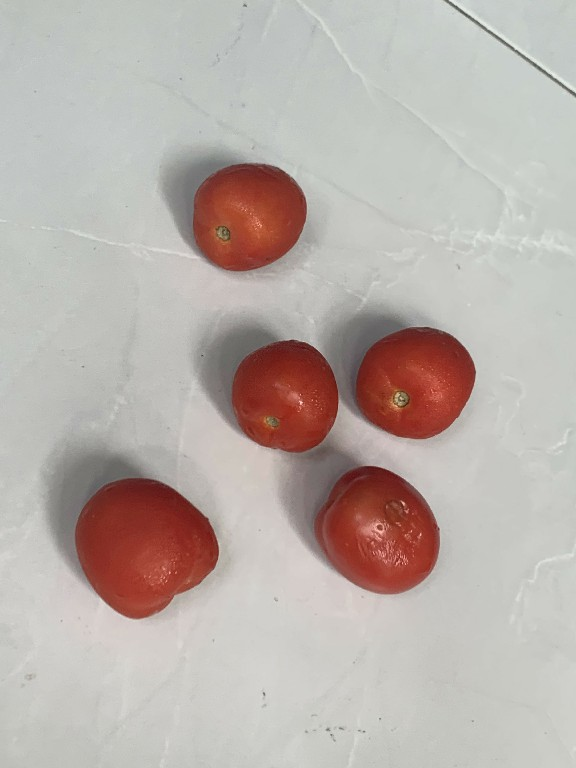NG: (311, 462, 459, 603)
OK: (69, 468, 233, 630), (352, 317, 479, 442), (228, 327, 348, 457), (187, 158, 317, 274)
